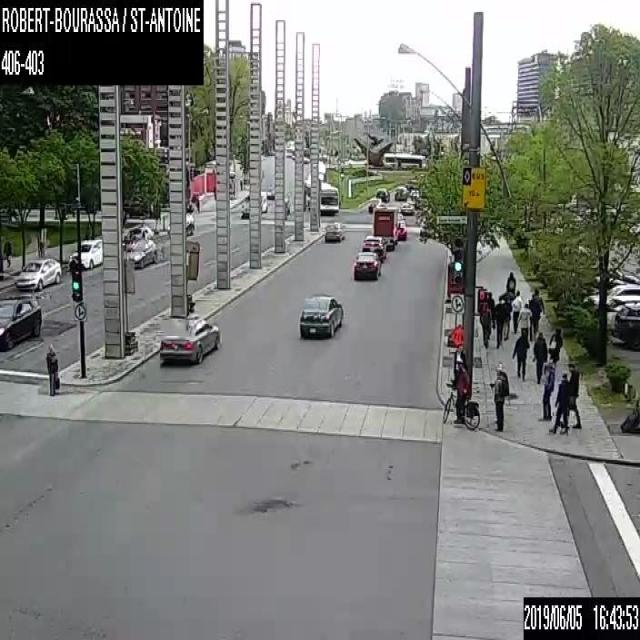bus: (306, 180, 338, 213), (382, 151, 424, 165), (309, 160, 325, 180), (292, 146, 308, 162), (305, 172, 323, 182)
construction: (121, 260, 138, 354), (185, 238, 199, 312), (450, 323, 462, 348)
cyclist: (441, 355, 480, 428)
pedestrian: (488, 362, 508, 432), (548, 372, 569, 433), (537, 357, 555, 420), (511, 327, 529, 380), (568, 362, 581, 429), (44, 341, 60, 395), (528, 288, 544, 339), (532, 331, 546, 384), (494, 296, 506, 348), (479, 304, 492, 349), (516, 302, 532, 336), (510, 289, 522, 333), (547, 328, 562, 362), (503, 296, 511, 339), (486, 291, 494, 328), (3, 233, 11, 266), (506, 270, 516, 293)
vehicle: (159, 317, 218, 364), (0, 295, 42, 349), (299, 294, 343, 338), (15, 256, 61, 290), (614, 304, 639, 348), (372, 206, 398, 248), (590, 284, 639, 306), (68, 238, 102, 269), (606, 296, 639, 327), (122, 238, 156, 268), (353, 251, 381, 280), (122, 222, 153, 244), (362, 234, 386, 260), (240, 190, 266, 213), (167, 212, 194, 234), (324, 223, 341, 240), (367, 197, 384, 211), (394, 185, 408, 200), (376, 187, 389, 201), (397, 218, 406, 238), (399, 202, 412, 214), (284, 196, 289, 219), (266, 187, 274, 198), (396, 212, 402, 218)
